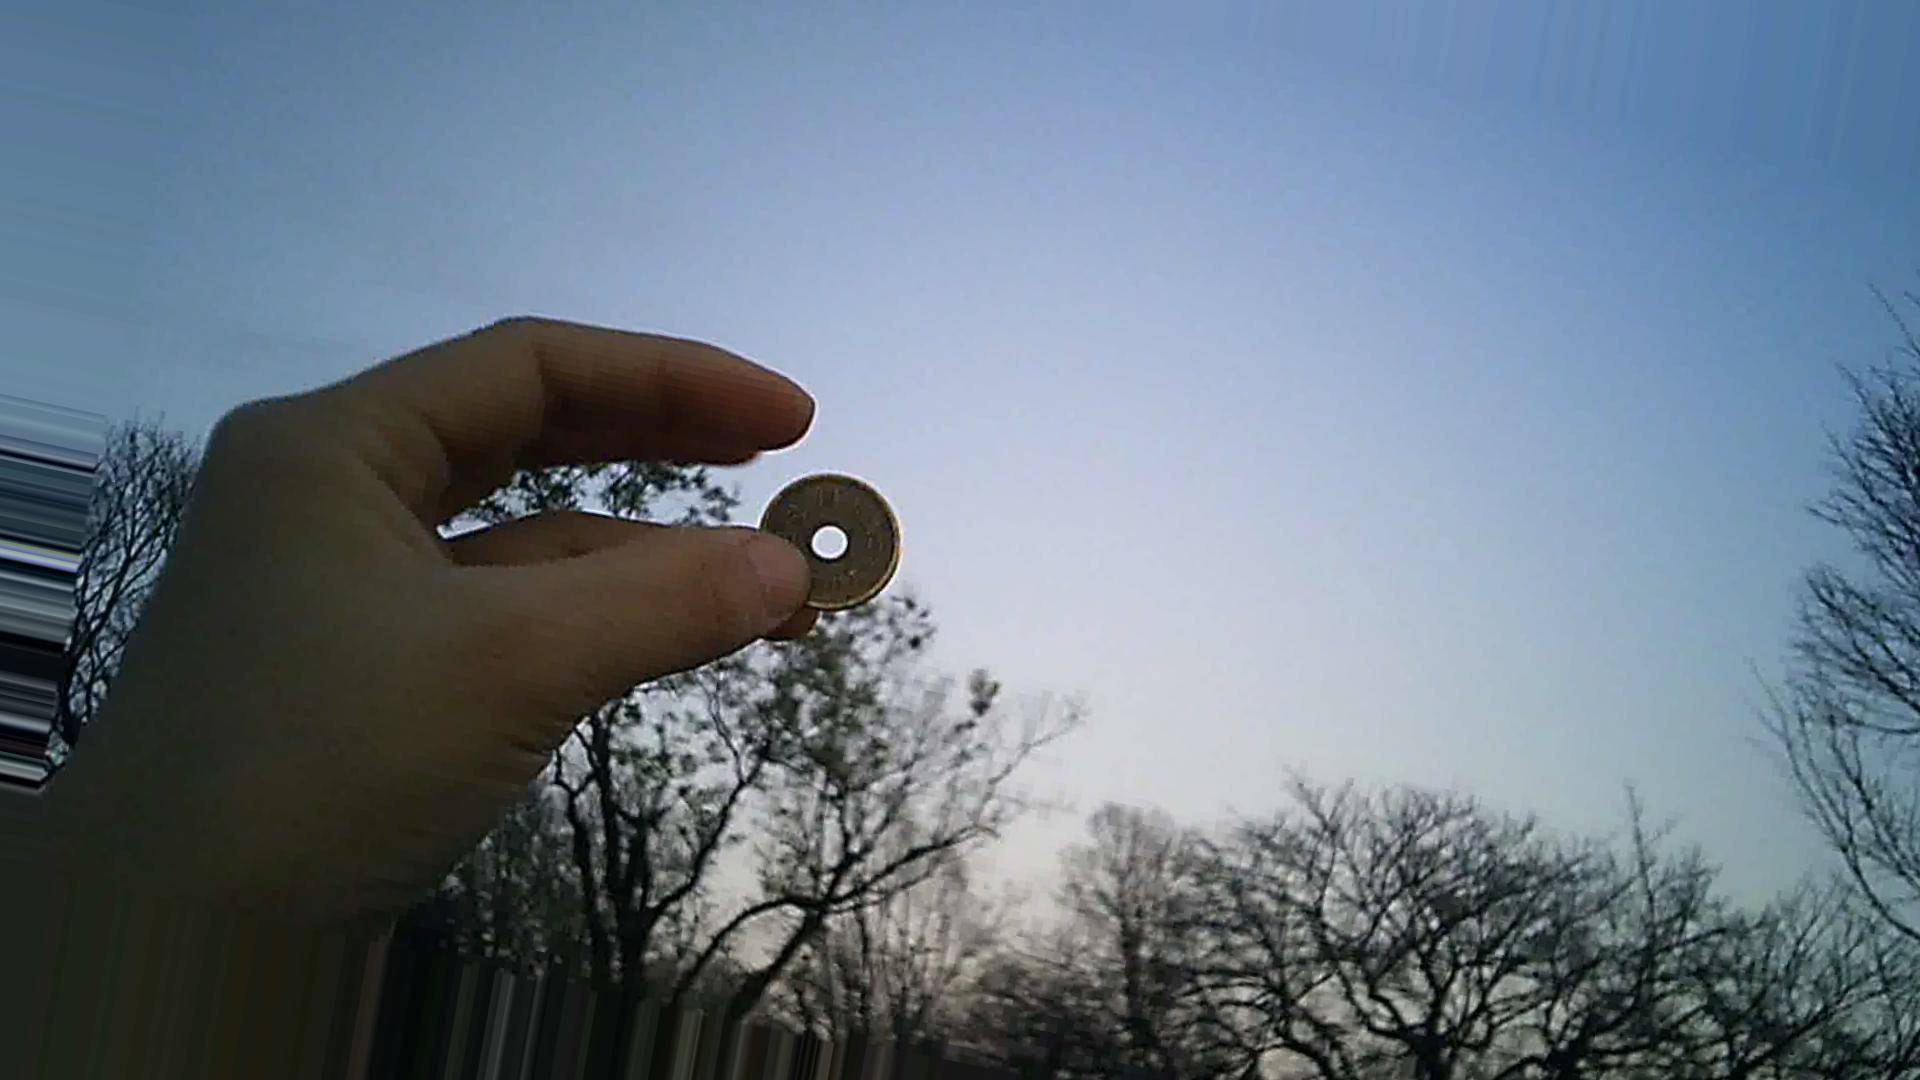5 Yen: (750, 471, 910, 621)
